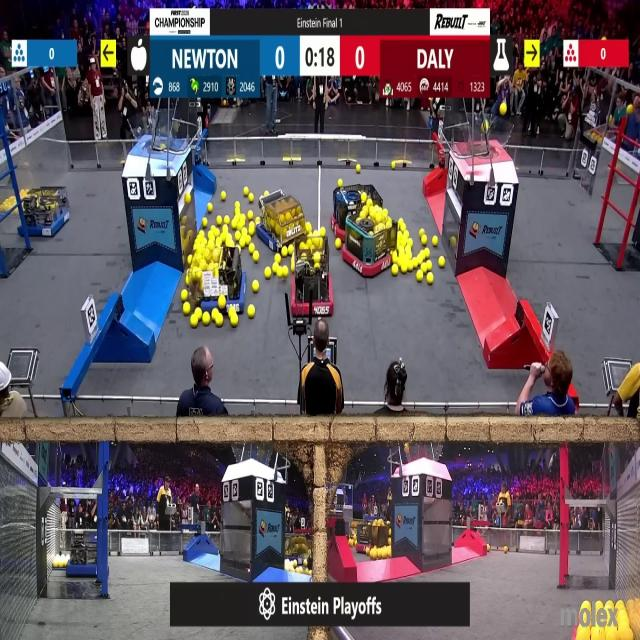ball_airborne: (499, 104, 507, 115)
ball_ground: (576, 625, 586, 638), (231, 312, 239, 326), (56, 558, 66, 569), (215, 313, 223, 326), (190, 313, 197, 327), (426, 273, 434, 285), (252, 280, 260, 292), (248, 306, 255, 319), (384, 546, 391, 559), (418, 227, 426, 238), (182, 304, 189, 316), (219, 295, 226, 307), (184, 190, 191, 202), (400, 263, 408, 273), (231, 217, 237, 230), (281, 267, 288, 278), (204, 313, 211, 324), (369, 545, 376, 556), (593, 626, 600, 637), (440, 255, 446, 267), (618, 600, 626, 609), (386, 544, 392, 556), (225, 238, 233, 247), (417, 272, 424, 282), (420, 262, 427, 272), (584, 600, 591, 610), (392, 266, 398, 277), (307, 222, 313, 233), (274, 254, 282, 262), (421, 235, 428, 244), (182, 290, 188, 300), (266, 268, 272, 278), (203, 217, 209, 227), (370, 548, 376, 558), (274, 265, 280, 275), (606, 600, 612, 610), (232, 306, 239, 314), (220, 191, 227, 199), (424, 254, 431, 262), (208, 235, 216, 242), (193, 306, 200, 314), (424, 248, 429, 259), (336, 240, 342, 249), (253, 252, 259, 261), (391, 161, 397, 170), (392, 250, 398, 259), (248, 210, 253, 220), (401, 222, 406, 232), (379, 549, 384, 559), (216, 238, 221, 248), (417, 256, 422, 266), (222, 224, 229, 231), (451, 238, 457, 246), (249, 242, 255, 250), (398, 218, 404, 226), (418, 249, 424, 257), (182, 216, 188, 224), (244, 186, 249, 195), (187, 255, 192, 264), (216, 215, 221, 224), (193, 241, 198, 250), (488, 544, 494, 551), (241, 240, 247, 247), (235, 233, 241, 240), (235, 240, 241, 247), (339, 179, 344, 187), (249, 192, 254, 200), (236, 202, 241, 210), (201, 233, 206, 241), (211, 224, 216, 232), (320, 226, 324, 235), (223, 216, 228, 223), (288, 247, 293, 254), (307, 241, 312, 248), (432, 238, 436, 246), (209, 204, 213, 212), (408, 262, 412, 270), (503, 545, 508, 551), (307, 568, 312, 574), (356, 166, 360, 173), (408, 239, 412, 246)
goal: (456, 119, 514, 158), (124, 118, 189, 151)
robot_blue: (256, 189, 308, 258), (195, 246, 247, 312), (18, 186, 71, 238), (282, 534, 310, 560)
robot_red: (344, 215, 396, 276), (330, 182, 384, 240), (347, 519, 392, 554)
